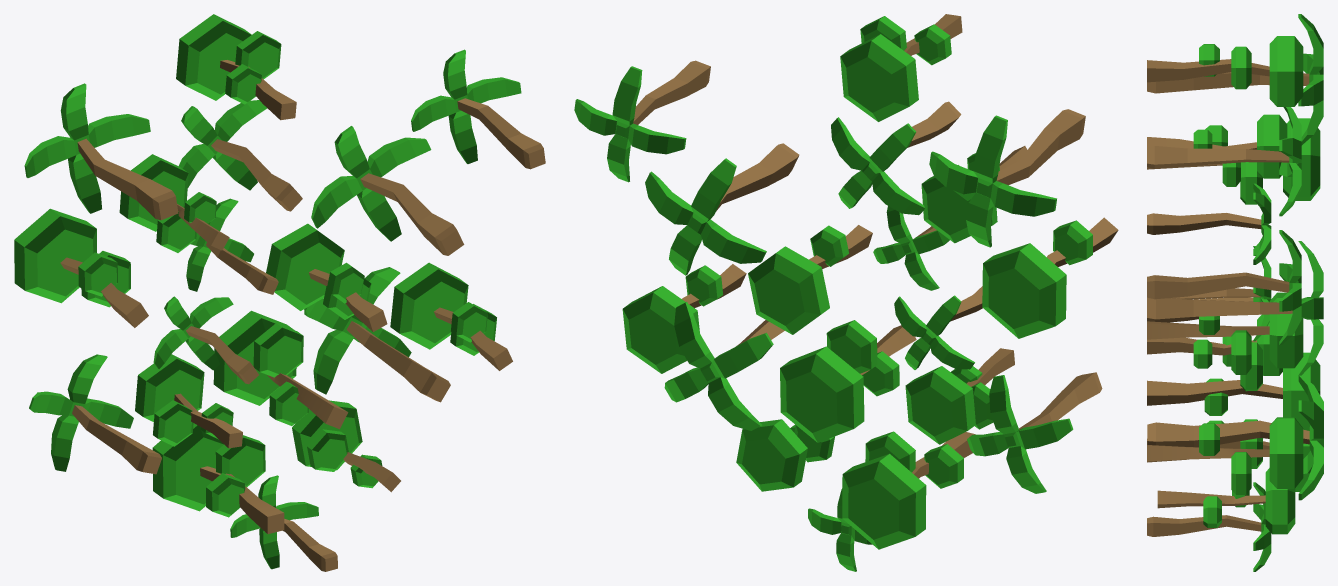
Rendered from nature_jungleRiverDelta.fbx.
3 renders of one model, left to right at view 1: azimuth 30°, elevation 25°; view 2: azimuth 150°, elevation 25°; view 3: azimuth 270°, elevation 25°, orthographic. The views are drawn at different scales.
Parts seen in each view (by area): view 1: Jungle; view 2: Jungle; view 3: Jungle.
Part boxes in pixels (x1=…): Jungle: x1=14, y1=14, x2=545, y2=571; Jungle: x1=574, y1=14, x2=1118, y2=571; Jungle: x1=1147, y1=14, x2=1323, y2=571.
Size of the model in its own units: 187 by 199 by 61.77.
